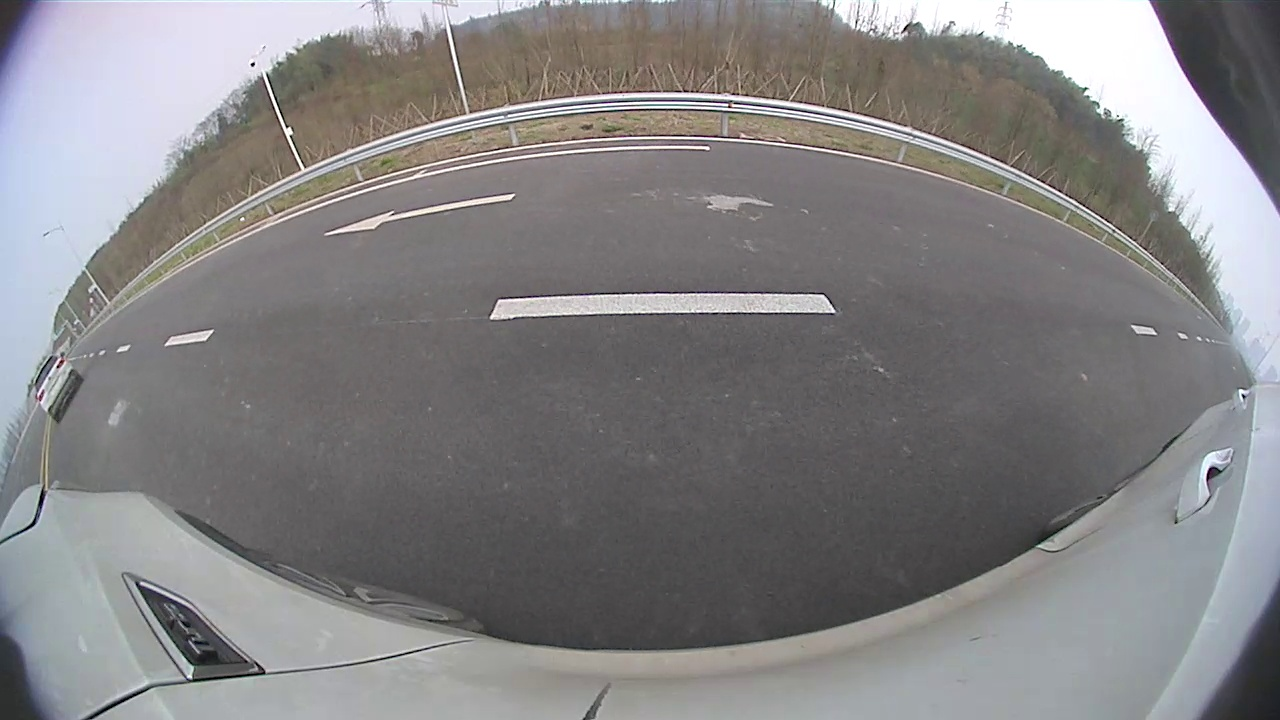car: (629, 132, 717, 205)
